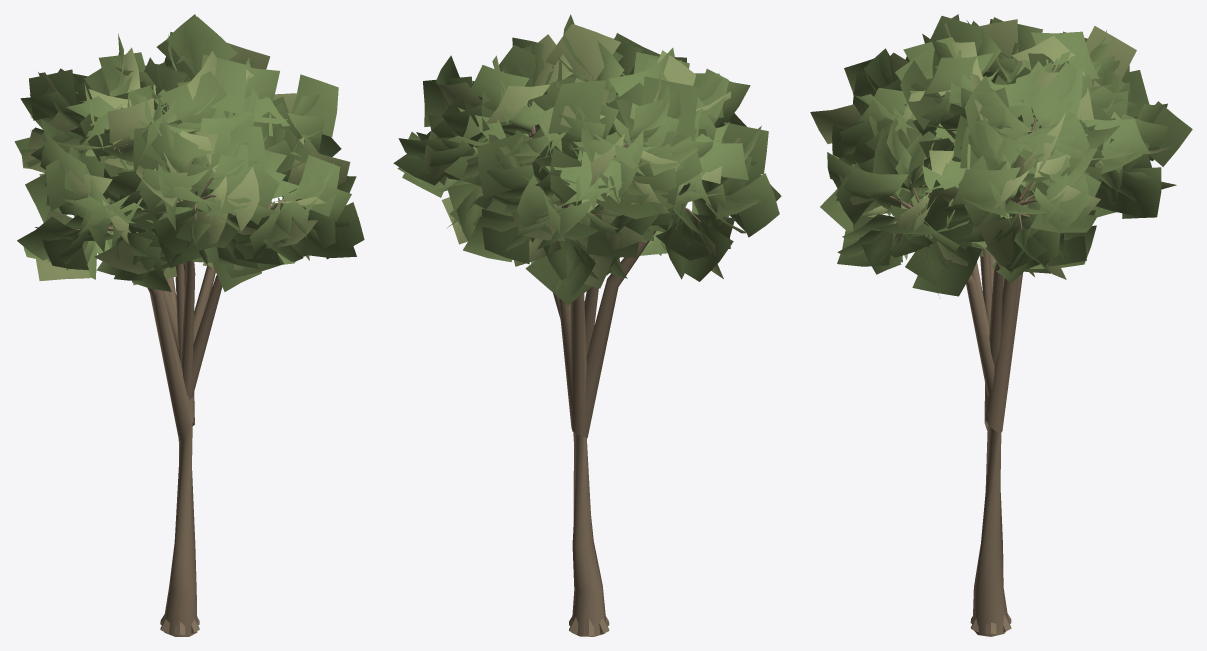
File: roadside-oak-before-trunk-taper.glb
The picture shows the model from 3 angles, left to right: view 1: azimuth 30°, elevation 25°; view 2: azimuth 150°, elevation 25°; view 3: azimuth 270°, elevation 25°; orthographic projection. The views are drawn at different scales.
Parts seen in each view (by area): view 1: foliage, foliage-light, wood; view 2: foliage, foliage-light, wood; view 3: foliage, foliage-light, wood.
Part boxes in pixels (<box>): foliage: <box>14,14,364,291</box>; foliage-light: <box>23,34,358,285</box>; wood: <box>75,70,301,636</box>; foliage: <box>393,14,781,305</box>; foliage-light: <box>423,23,747,288</box>; wood: <box>525,75,729,636</box>; foliage: <box>820,16,1192,296</box>; foliage-light: <box>810,14,1170,279</box>; wood: <box>889,62,1041,636</box>.
Size of the model in its own units: 7.08 by 11.37 by 6.57.
